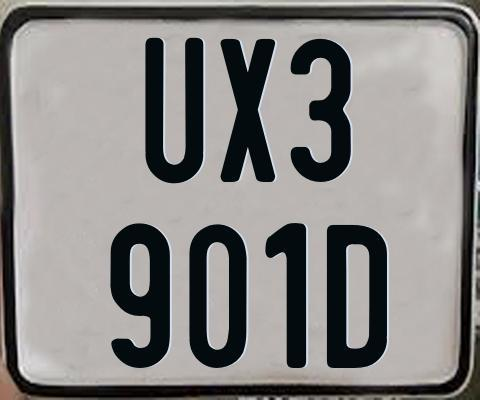0: (187, 221, 245, 369)
1: (263, 220, 310, 371)
3: (287, 37, 348, 183)
9: (108, 223, 172, 372)
D: (325, 224, 391, 371)
U: (145, 35, 205, 184)
X: (219, 37, 277, 186)
